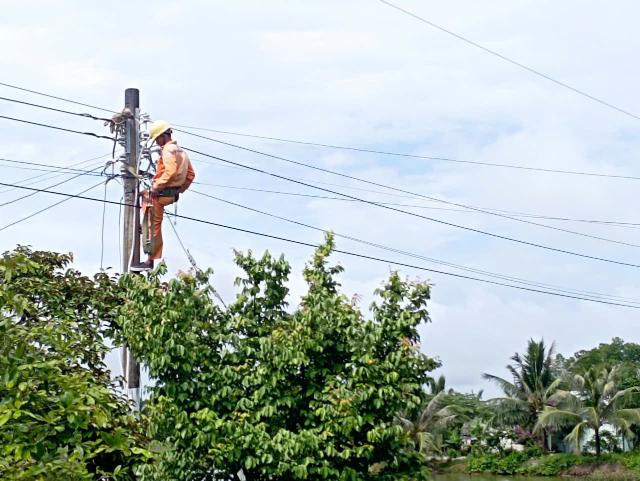harness: (149, 182, 185, 199)
helmet: (147, 114, 176, 148)
shoes: (128, 259, 158, 274)
